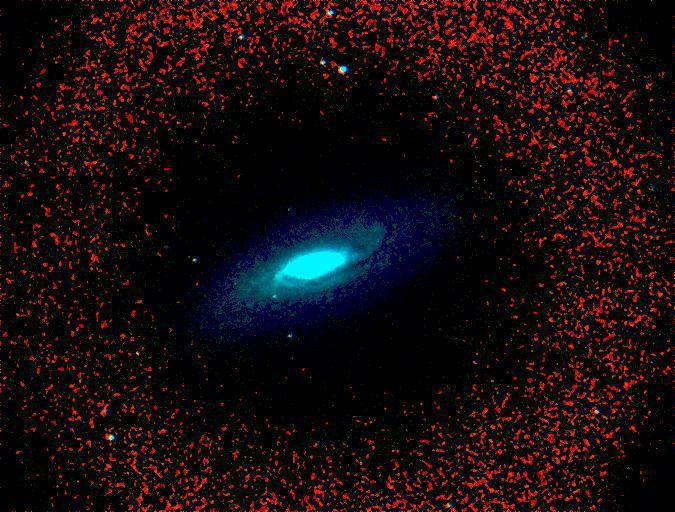star: (219, 268, 249, 298)
